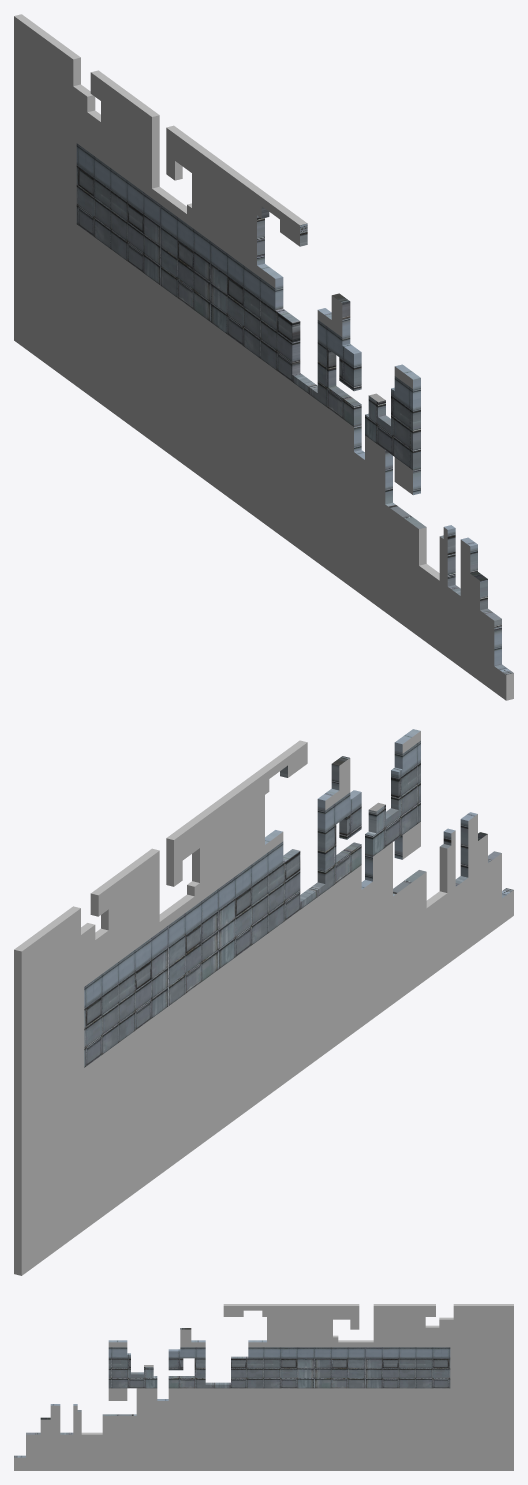
File: Wall_Window_2_Destroyed.fbx
The picture shows the model from 3 angles, top to bottom: view 1: azimuth 30°, elevation 25°; view 2: azimuth 150°, elevation 25°; view 3: azimuth 270°, elevation 25°; orthographic projection. The views are drawn at different scales.
Visible parts, largest first — view 1: Wall_with_Window1; view 2: Wall_with_Window1; view 3: Wall_with_Window1.
Boxes of the visible parts, left/top/right/bottom form: Wall_with_Window1: left=14, top=14, right=513, bottom=700; Wall_with_Window1: left=14, top=729, right=513, bottom=1275; Wall_with_Window1: left=14, top=1304, right=513, bottom=1470.
Size of the model in its own units: 0.5021 by 20 by 55.
